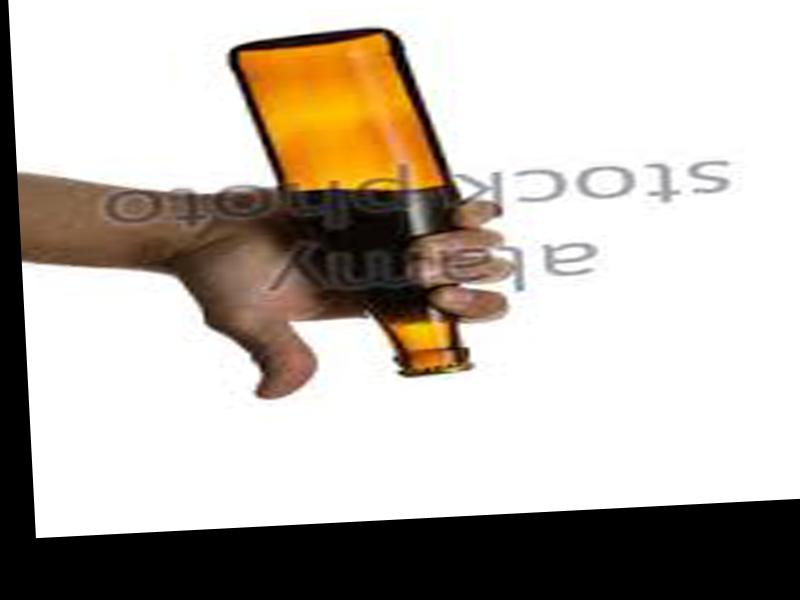Beer: (224, 26, 478, 381)
